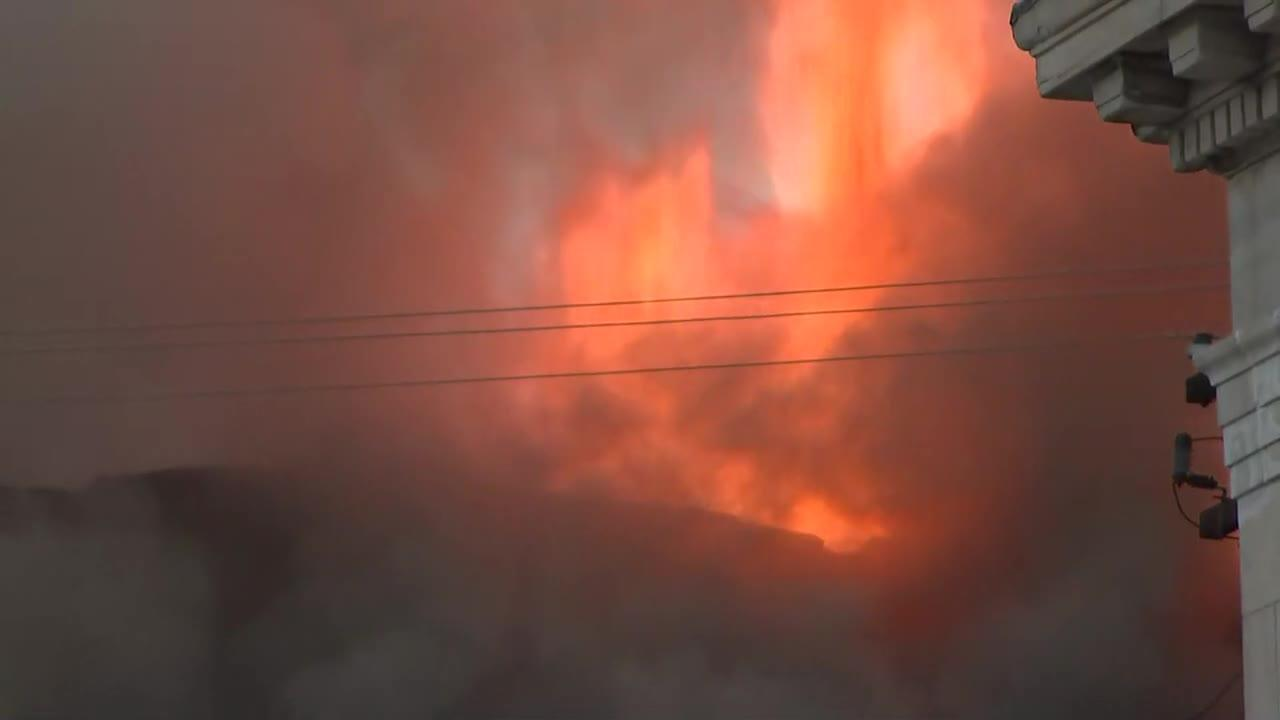Fire: (622, 69, 980, 577)
